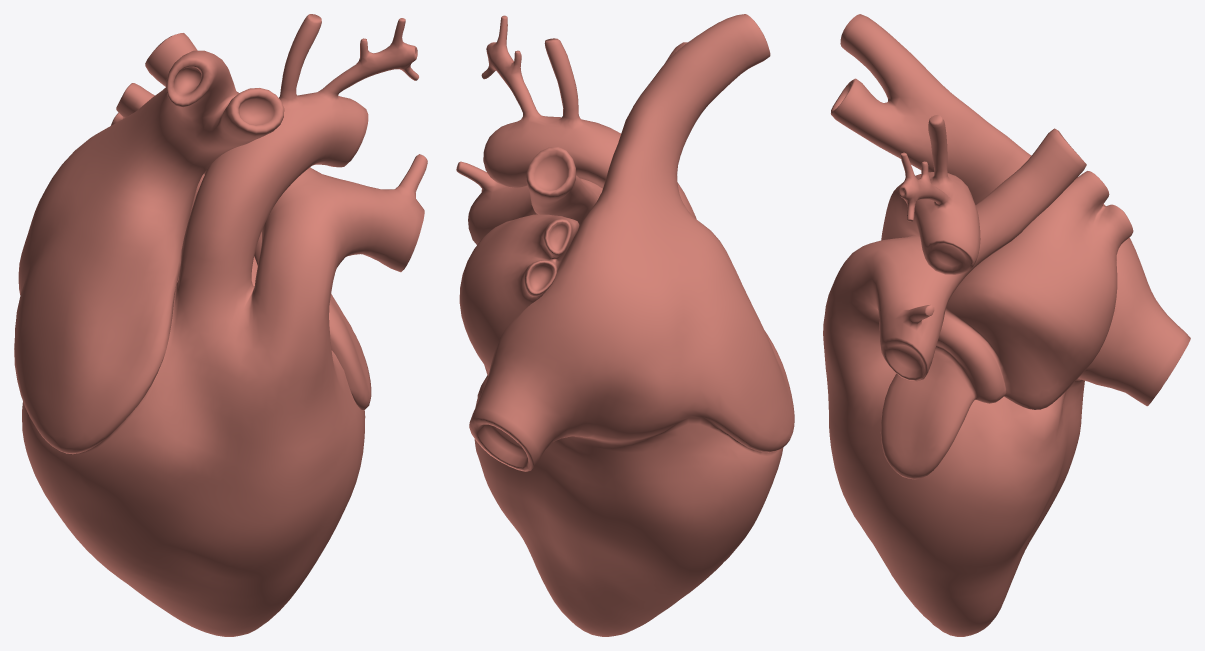
File: heart-human.glb
The picture shows the model from 3 angles, left to right: view 1: azimuth 30°, elevation 25°; view 2: azimuth 150°, elevation 25°; view 3: azimuth 270°, elevation 25°; orthographic projection. The views are drawn at different scales.
Visible parts, largest first — view 1: human_heart.1_1; view 2: human_heart.1_1; view 3: human_heart.1_1.
Part boxes in pixels (left/top/right/bottom): human_heart.1_1: left=14, top=14, right=427, bottom=636; human_heart.1_1: left=456, top=14, right=794, bottom=636; human_heart.1_1: left=823, top=14, right=1190, bottom=636.
Bounding box in the file's own units: 0.1475 × 0.247 × 0.1433.
